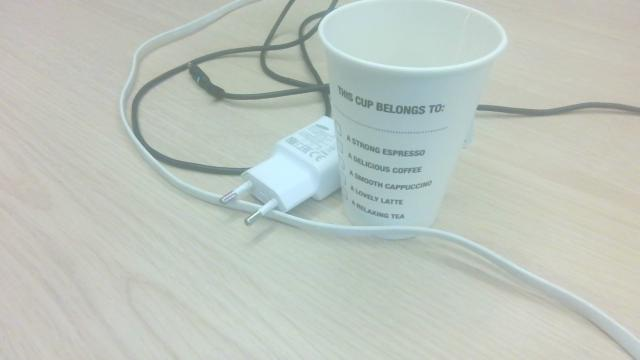cup: (313, 1, 511, 241)
